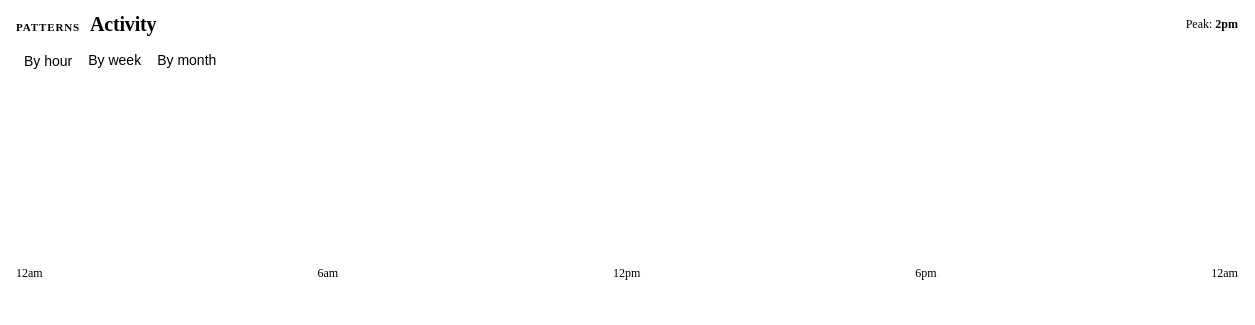
Test case: ActivitySection peak callout › hides peak callout on day tab
The width and height of the screenshot is (1255, 325).
Click the button with class "activity-tab" showing "By month": (187, 61) [149, 48, 224, 74]
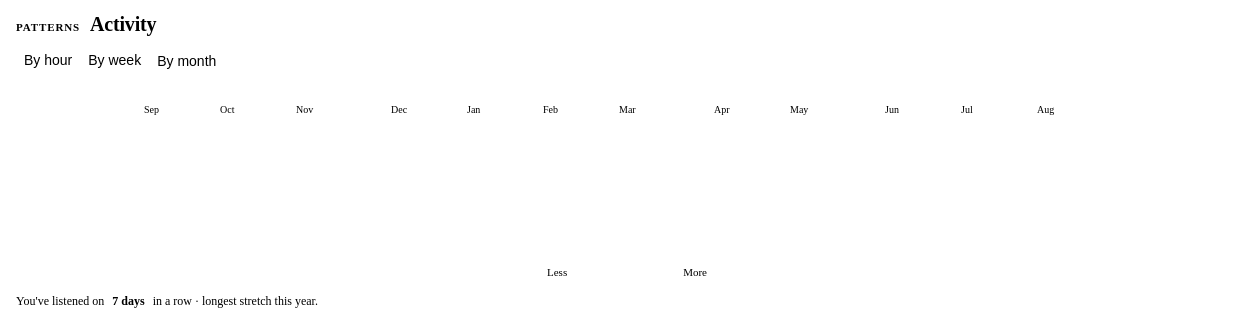
Expected: the element with class "activity-chart-peak" is gone
